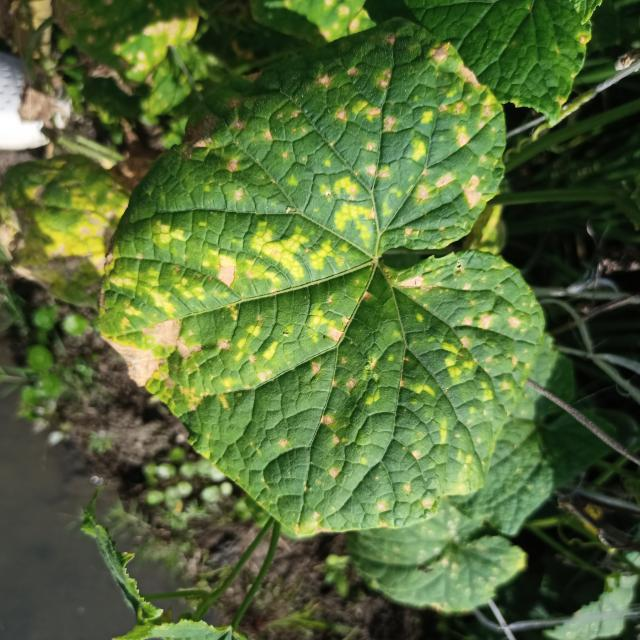disease_cucumber: (111, 22, 522, 504)
